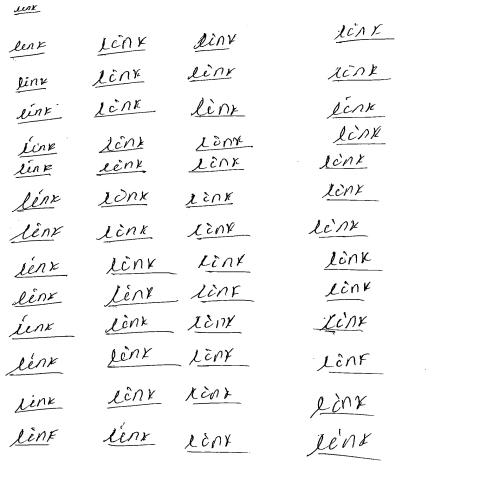Link: (304, 429, 379, 458), (307, 393, 369, 419), (102, 284, 163, 308), (8, 189, 64, 215), (4, 354, 63, 378), (325, 97, 383, 121), (7, 221, 64, 245), (333, 24, 397, 45), (91, 99, 158, 119), (105, 387, 162, 410), (96, 34, 149, 57), (186, 221, 243, 242), (187, 154, 243, 175), (95, 224, 153, 244), (327, 65, 391, 83), (334, 124, 384, 147), (190, 99, 246, 119), (95, 189, 151, 209), (184, 314, 237, 335), (101, 427, 154, 448), (194, 134, 252, 153), (316, 313, 370, 333), (7, 428, 61, 448), (185, 63, 236, 84), (192, 32, 240, 54), (12, 288, 62, 309), (93, 159, 148, 178), (92, 69, 144, 89), (13, 105, 64, 125), (13, 395, 62, 415), (97, 136, 148, 155), (184, 191, 235, 210), (319, 154, 370, 172), (14, 160, 58, 180), (8, 39, 50, 59), (19, 138, 61, 158), (15, 76, 51, 94)
